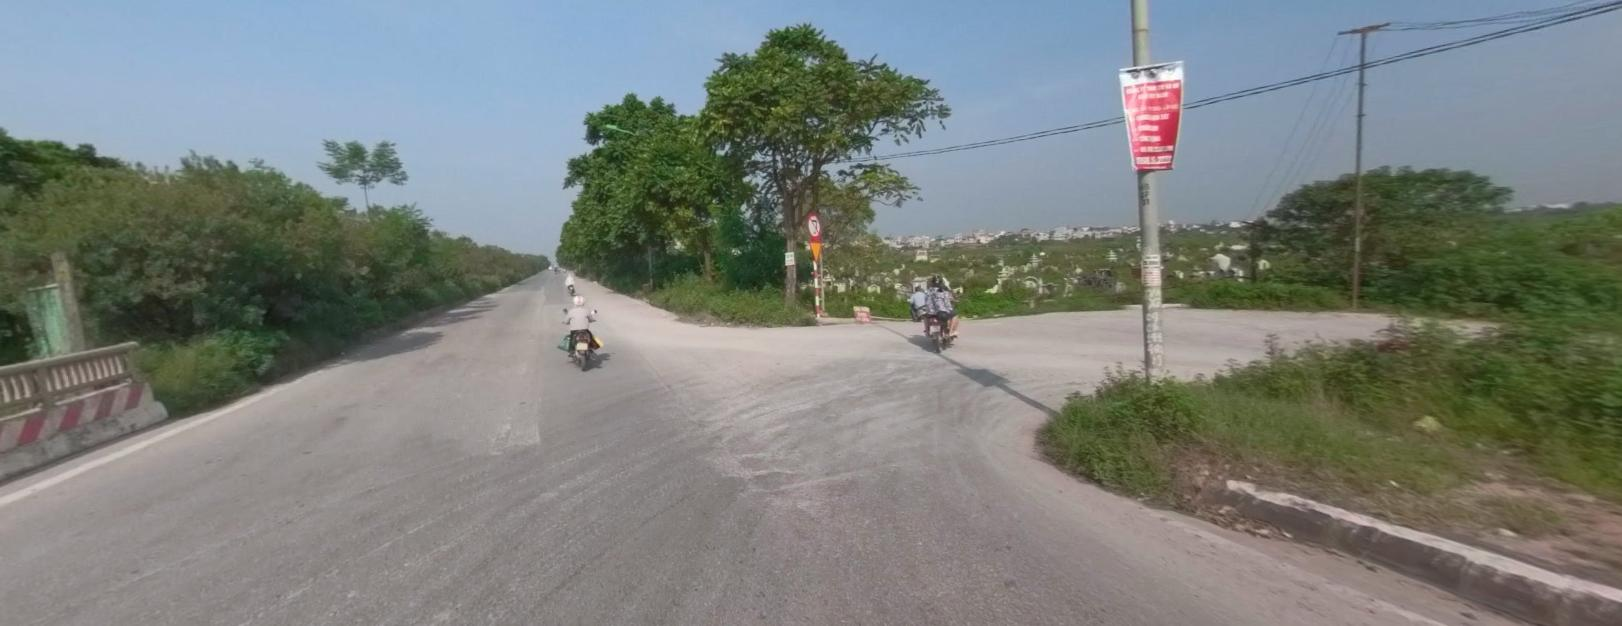Cam re: (806, 210, 822, 238)
Nguy hiem: (807, 239, 820, 260)
